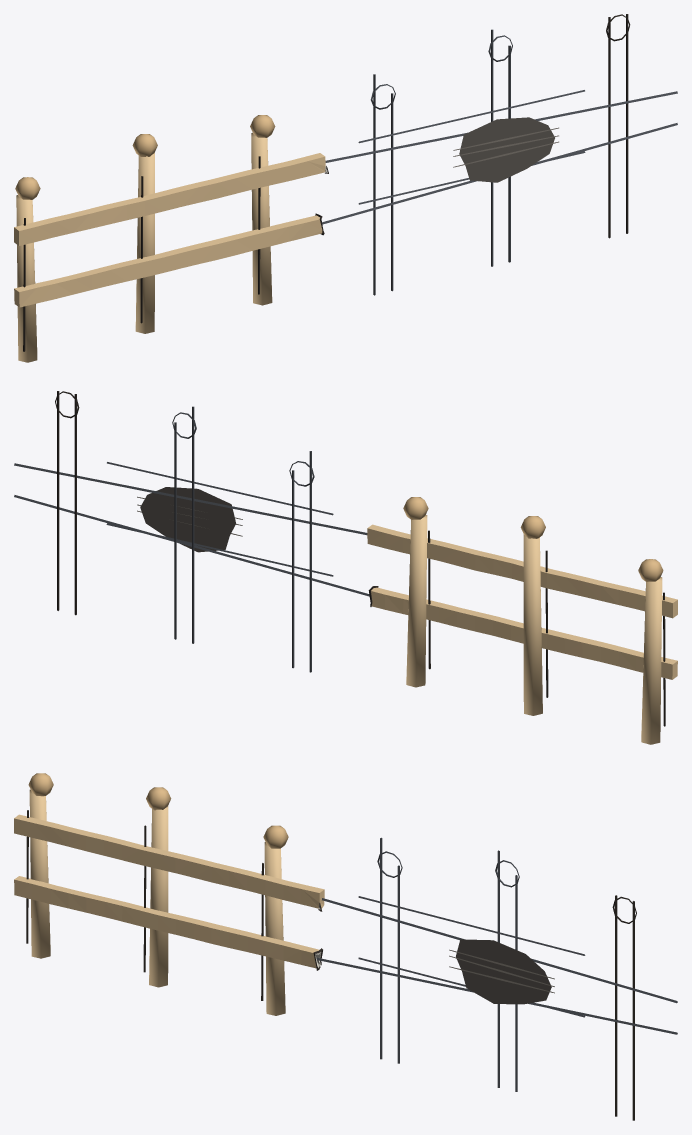
File: Sketch_Fence_1.fbx
3 renders of one model, top to bottom at view 1: azimuth 30°, elevation 25°; view 2: azimuth 150°, elevation 25°; view 3: azimuth 330°, elevation 25°, orthographic.
Visible parts, largest first — view 1: Solid, Lines; view 2: Solid, Lines; view 3: Solid, Lines.
Boxes of the visible parts, left/top/right/bottom form: Solid: left=14, top=115, right=327, bottom=362; Lines: left=23, top=14, right=677, bottom=351; Solid: left=367, top=497, right=677, bottom=744; Lines: left=14, top=391, right=665, bottom=726; Solid: left=14, top=773, right=324, bottom=1015; Lines: left=26, top=810, right=677, bottom=1120.
Bounding box in the file's own units: 4.5 × 1.54 × 0.2031.
